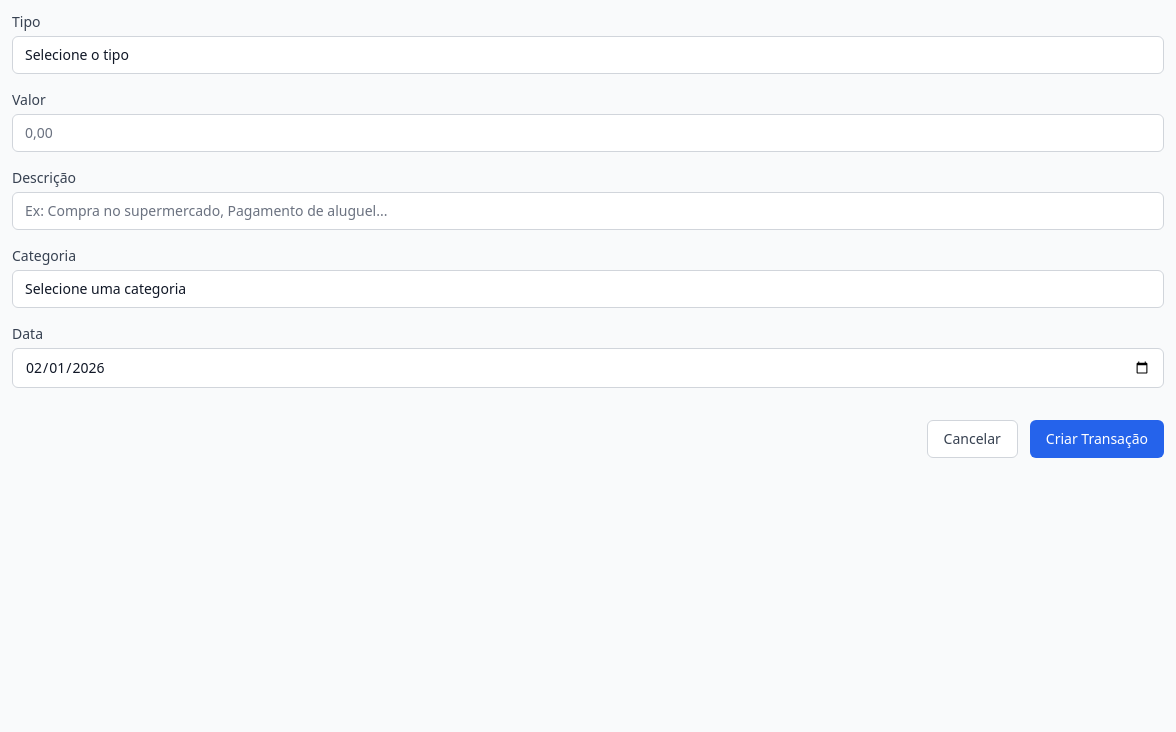
Test: TransactionForm › Form Validation - Requirement 3.1 › should show error when valor is empty
Click the button "Criar Transação" at [1097, 439], box [1030,420,1164,458]
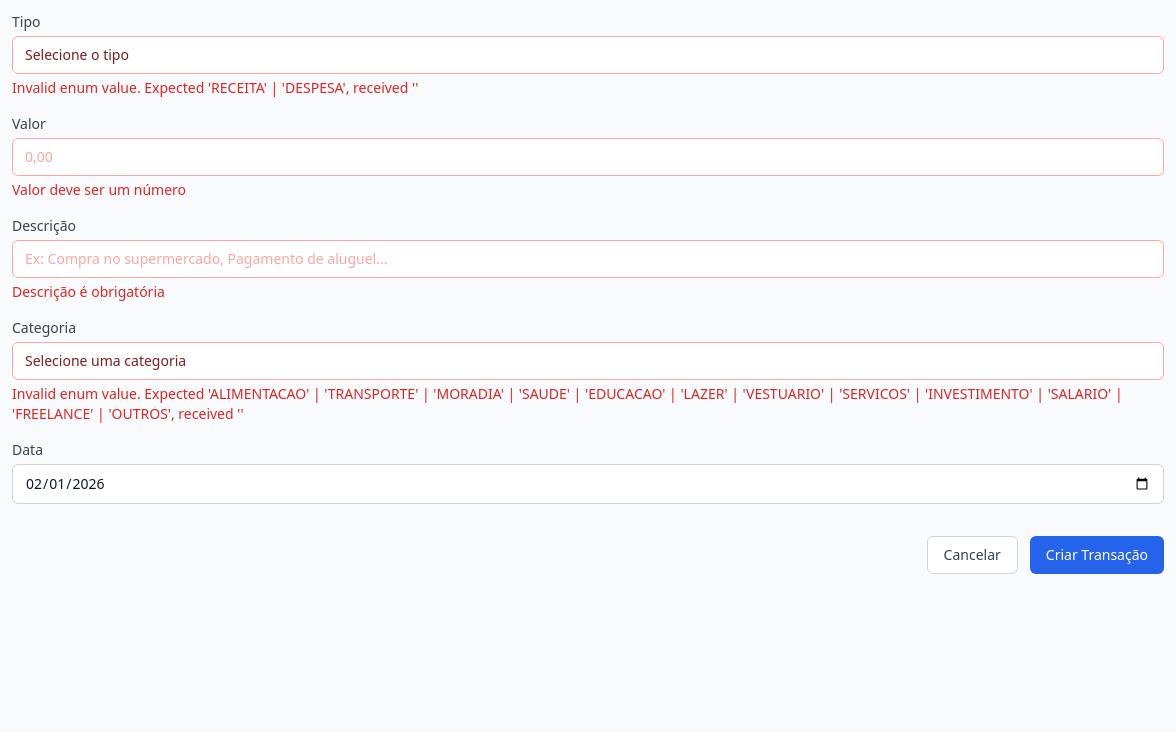
Now the text "Valor deve ser um número" is shown, box [12,180,186,199]
